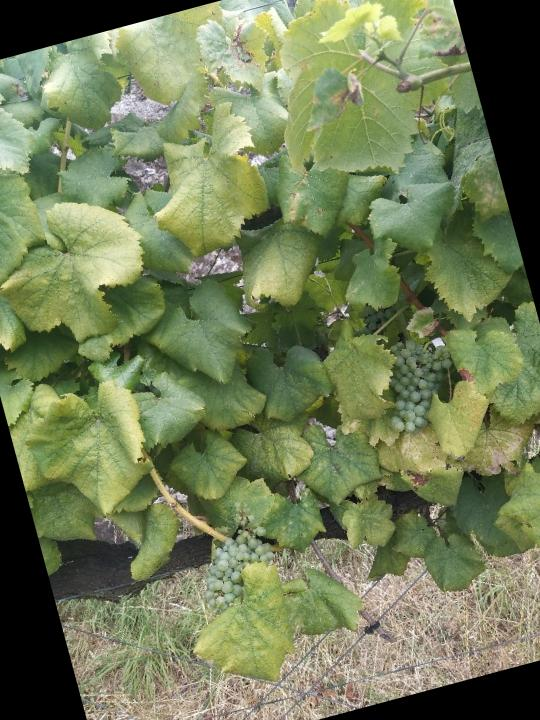grape: (370, 329, 470, 442), (190, 524, 287, 616)
